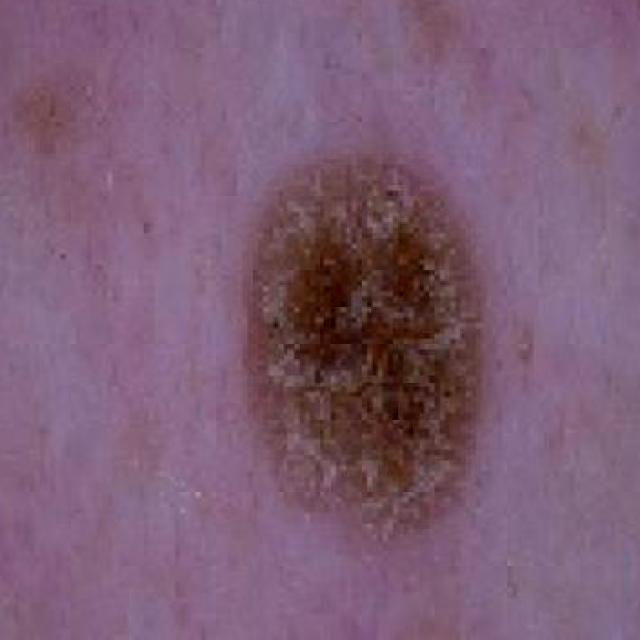BKL: (216, 39, 534, 640)
